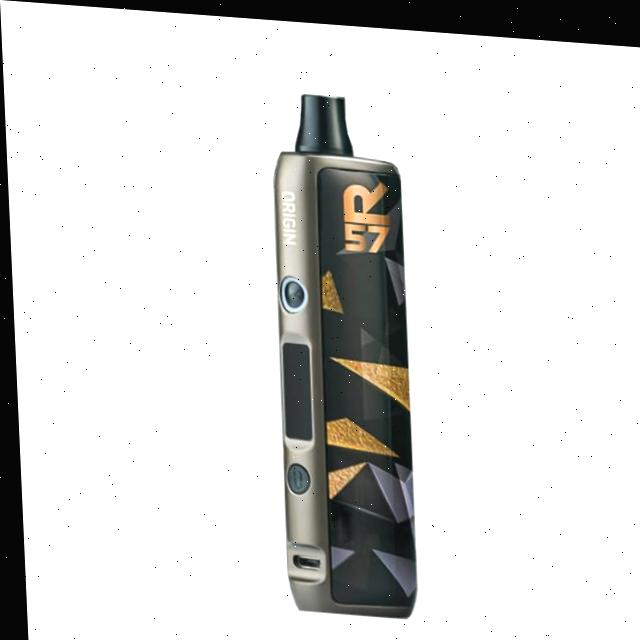vape: (264, 86, 417, 615)
